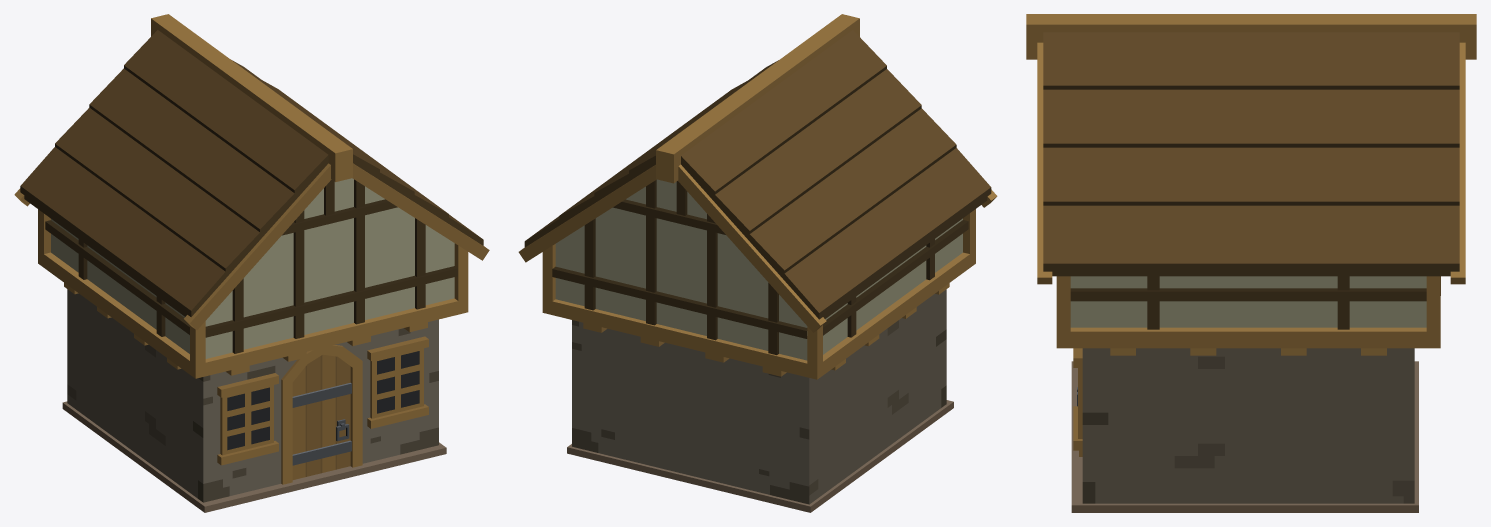
The model's file is SF_Bld_House_Blank_01.fbx.
3 views of the same model, side by side, from view 1: azimuth 30°, elevation 25°; view 2: azimuth 150°, elevation 25°; view 3: azimuth 270°, elevation 25° (orthographic). The views are drawn at different scales.
Visible parts, largest first — view 1: SF_Bld_House_Blank_01; view 2: SF_Bld_House_Blank_01; view 3: SF_Bld_House_Blank_01.
Part boxes in pixels (left/top/right/bottom): SF_Bld_House_Blank_01: left=14, top=14, right=489, bottom=512; SF_Bld_House_Blank_01: left=518, top=14, right=997, bottom=512; SF_Bld_House_Blank_01: left=1026, top=14, right=1476, bottom=512.
Bounding box in the file's own units: 9.95 × 10.97 × 10.61.
